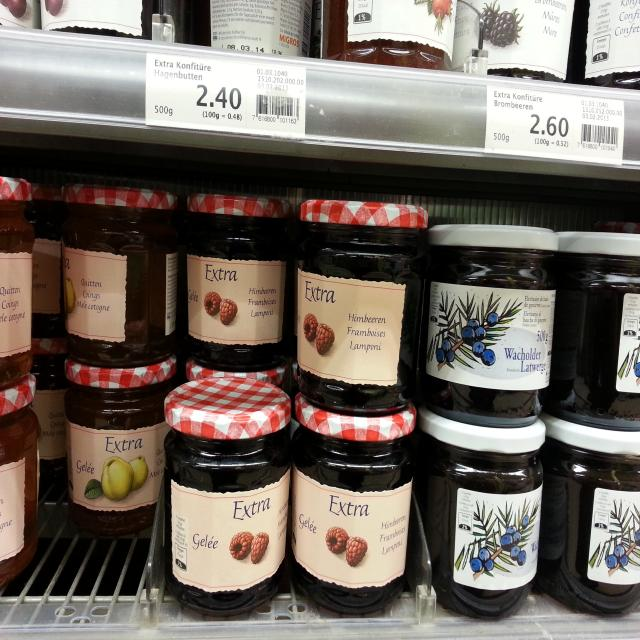Spreads: (164, 377, 291, 619), (415, 404, 546, 626), (418, 222, 560, 426), (293, 198, 428, 409), (293, 391, 414, 617), (60, 182, 182, 367), (61, 356, 176, 537), (544, 415, 640, 621), (184, 189, 291, 373), (549, 227, 640, 433), (0, 371, 40, 588), (0, 174, 38, 390)
